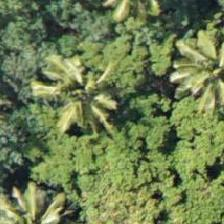coconut_tree: (9, 50, 99, 140), (166, 17, 223, 107)
